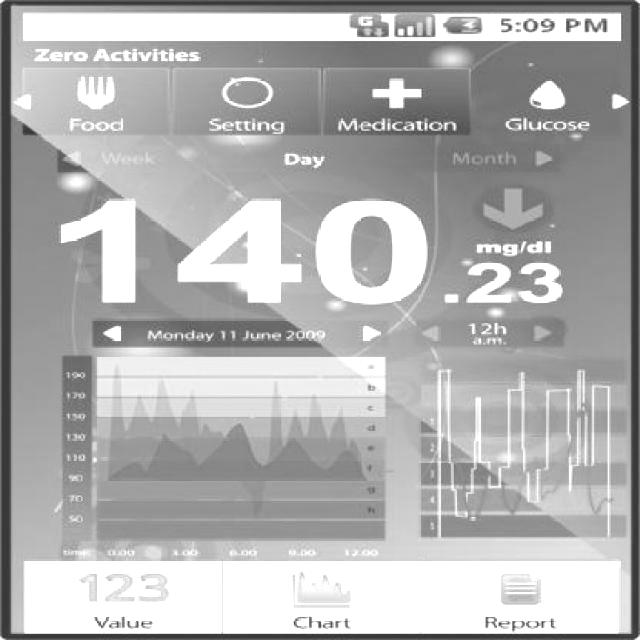fake: (0, 1, 638, 638)
